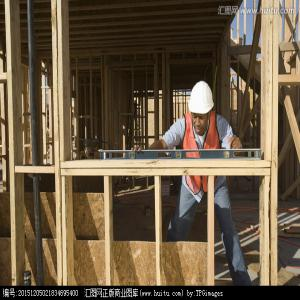white: (188, 81, 217, 138)
